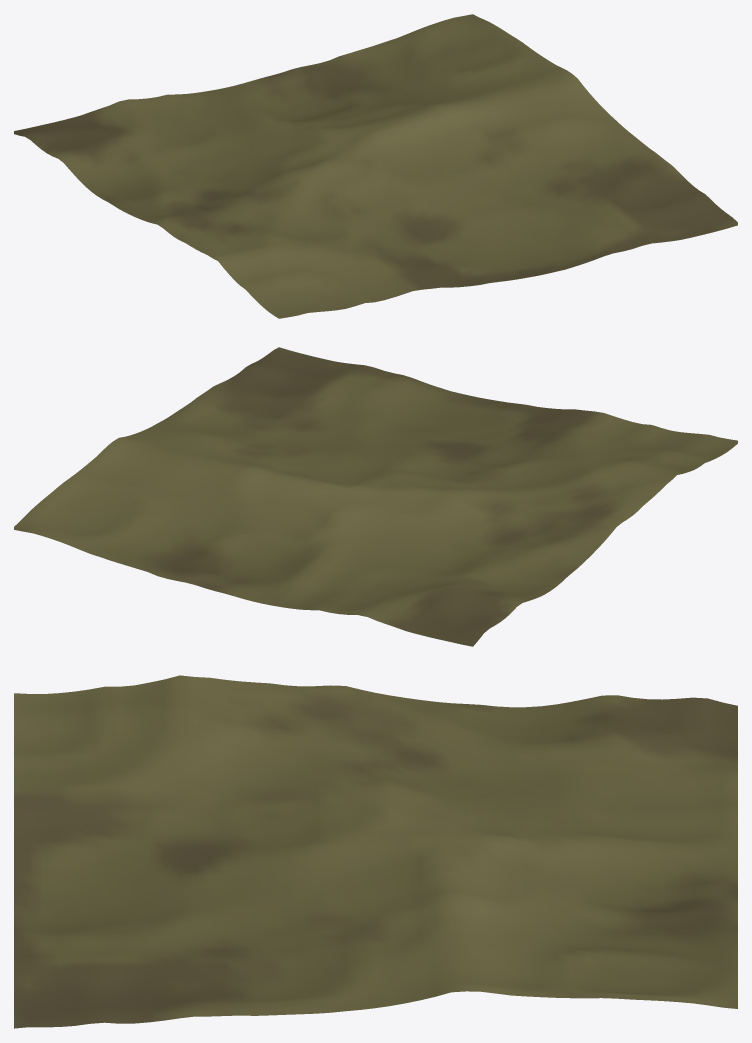
File: land_m_06_11.glb
3 renders of one model, top to bottom at view 1: azimuth 30°, elevation 25°; view 2: azimuth 150°, elevation 25°; view 3: azimuth 270°, elevation 25°, orthographic. The views are drawn at different scales.
Parts seen in each view (by area): view 1: land_m_06_11; view 2: land_m_06_11; view 3: land_m_06_11.
Boxes of the visible parts, x1,y1,x2,y2 form: land_m_06_11: (14, 14, 737, 318); land_m_06_11: (14, 347, 737, 646); land_m_06_11: (14, 675, 737, 1028).
Size of the model in its own units: 960 by 73.34 by 960.
